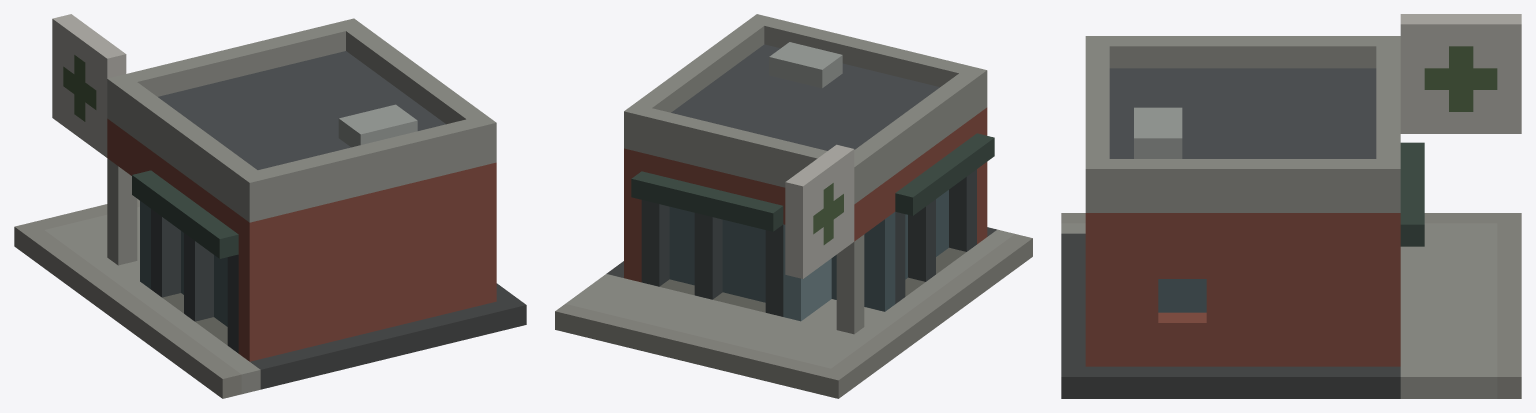
Rendered from Claude_pharmacy.glb.
The picture shows the model from 3 angles, left to right: view 1: azimuth 30°, elevation 25°; view 2: azimuth 150°, elevation 25°; view 3: azimuth 270°, elevation 25°; orthographic projection. The views are drawn at different scales.
Visible parts, largest first — view 1: Claude_pharmacy; view 2: Claude_pharmacy; view 3: Claude_pharmacy.
Part boxes in pixels (x1,y1,x2,y2): Claude_pharmacy: (14,14,526,398); Claude_pharmacy: (555,14,1032,398); Claude_pharmacy: (1061,14,1521,398).
Bounding box in the file's own units: 8 × 5.5 × 9.5.
